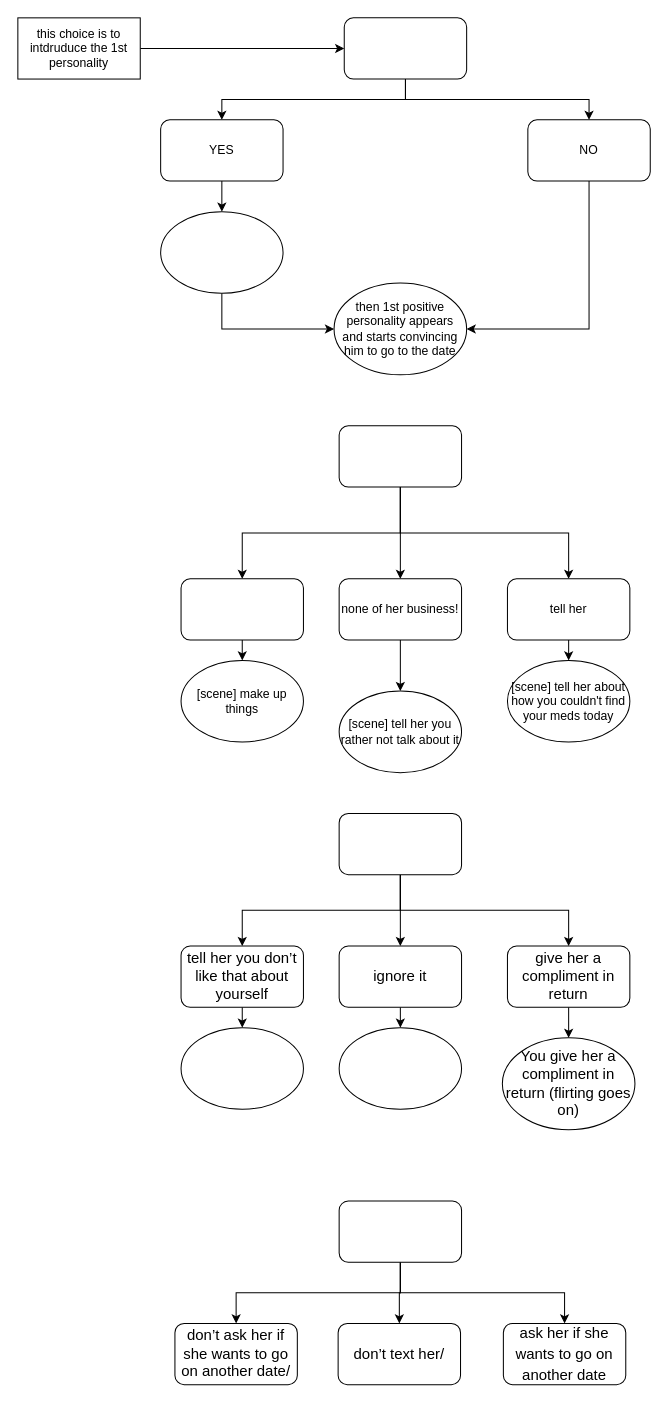
Some shapes in this 668 by 1403 pixel diagram are drawn without their labels. The centre of each missing label's shape, as x and y in pixels:
"[scene] don't like that about yourself she reasures you she likes it" goes at point (241, 1068).
"don't tell her, you don't want to be weird" goes at point (241, 609).
"ooh but i hope this time [bad experience form past] won't happen" goes at point (221, 252).
"send her a message?" goes at point (400, 1231).
"she asks how his day has been so far." goes at point (400, 456).
"she tells you she likes something about you" goes at point (400, 843).
"The conversation continues about something else" goes at point (400, 1068).
"you don't have your meds, do you still want to go to the date" goes at point (405, 48).
